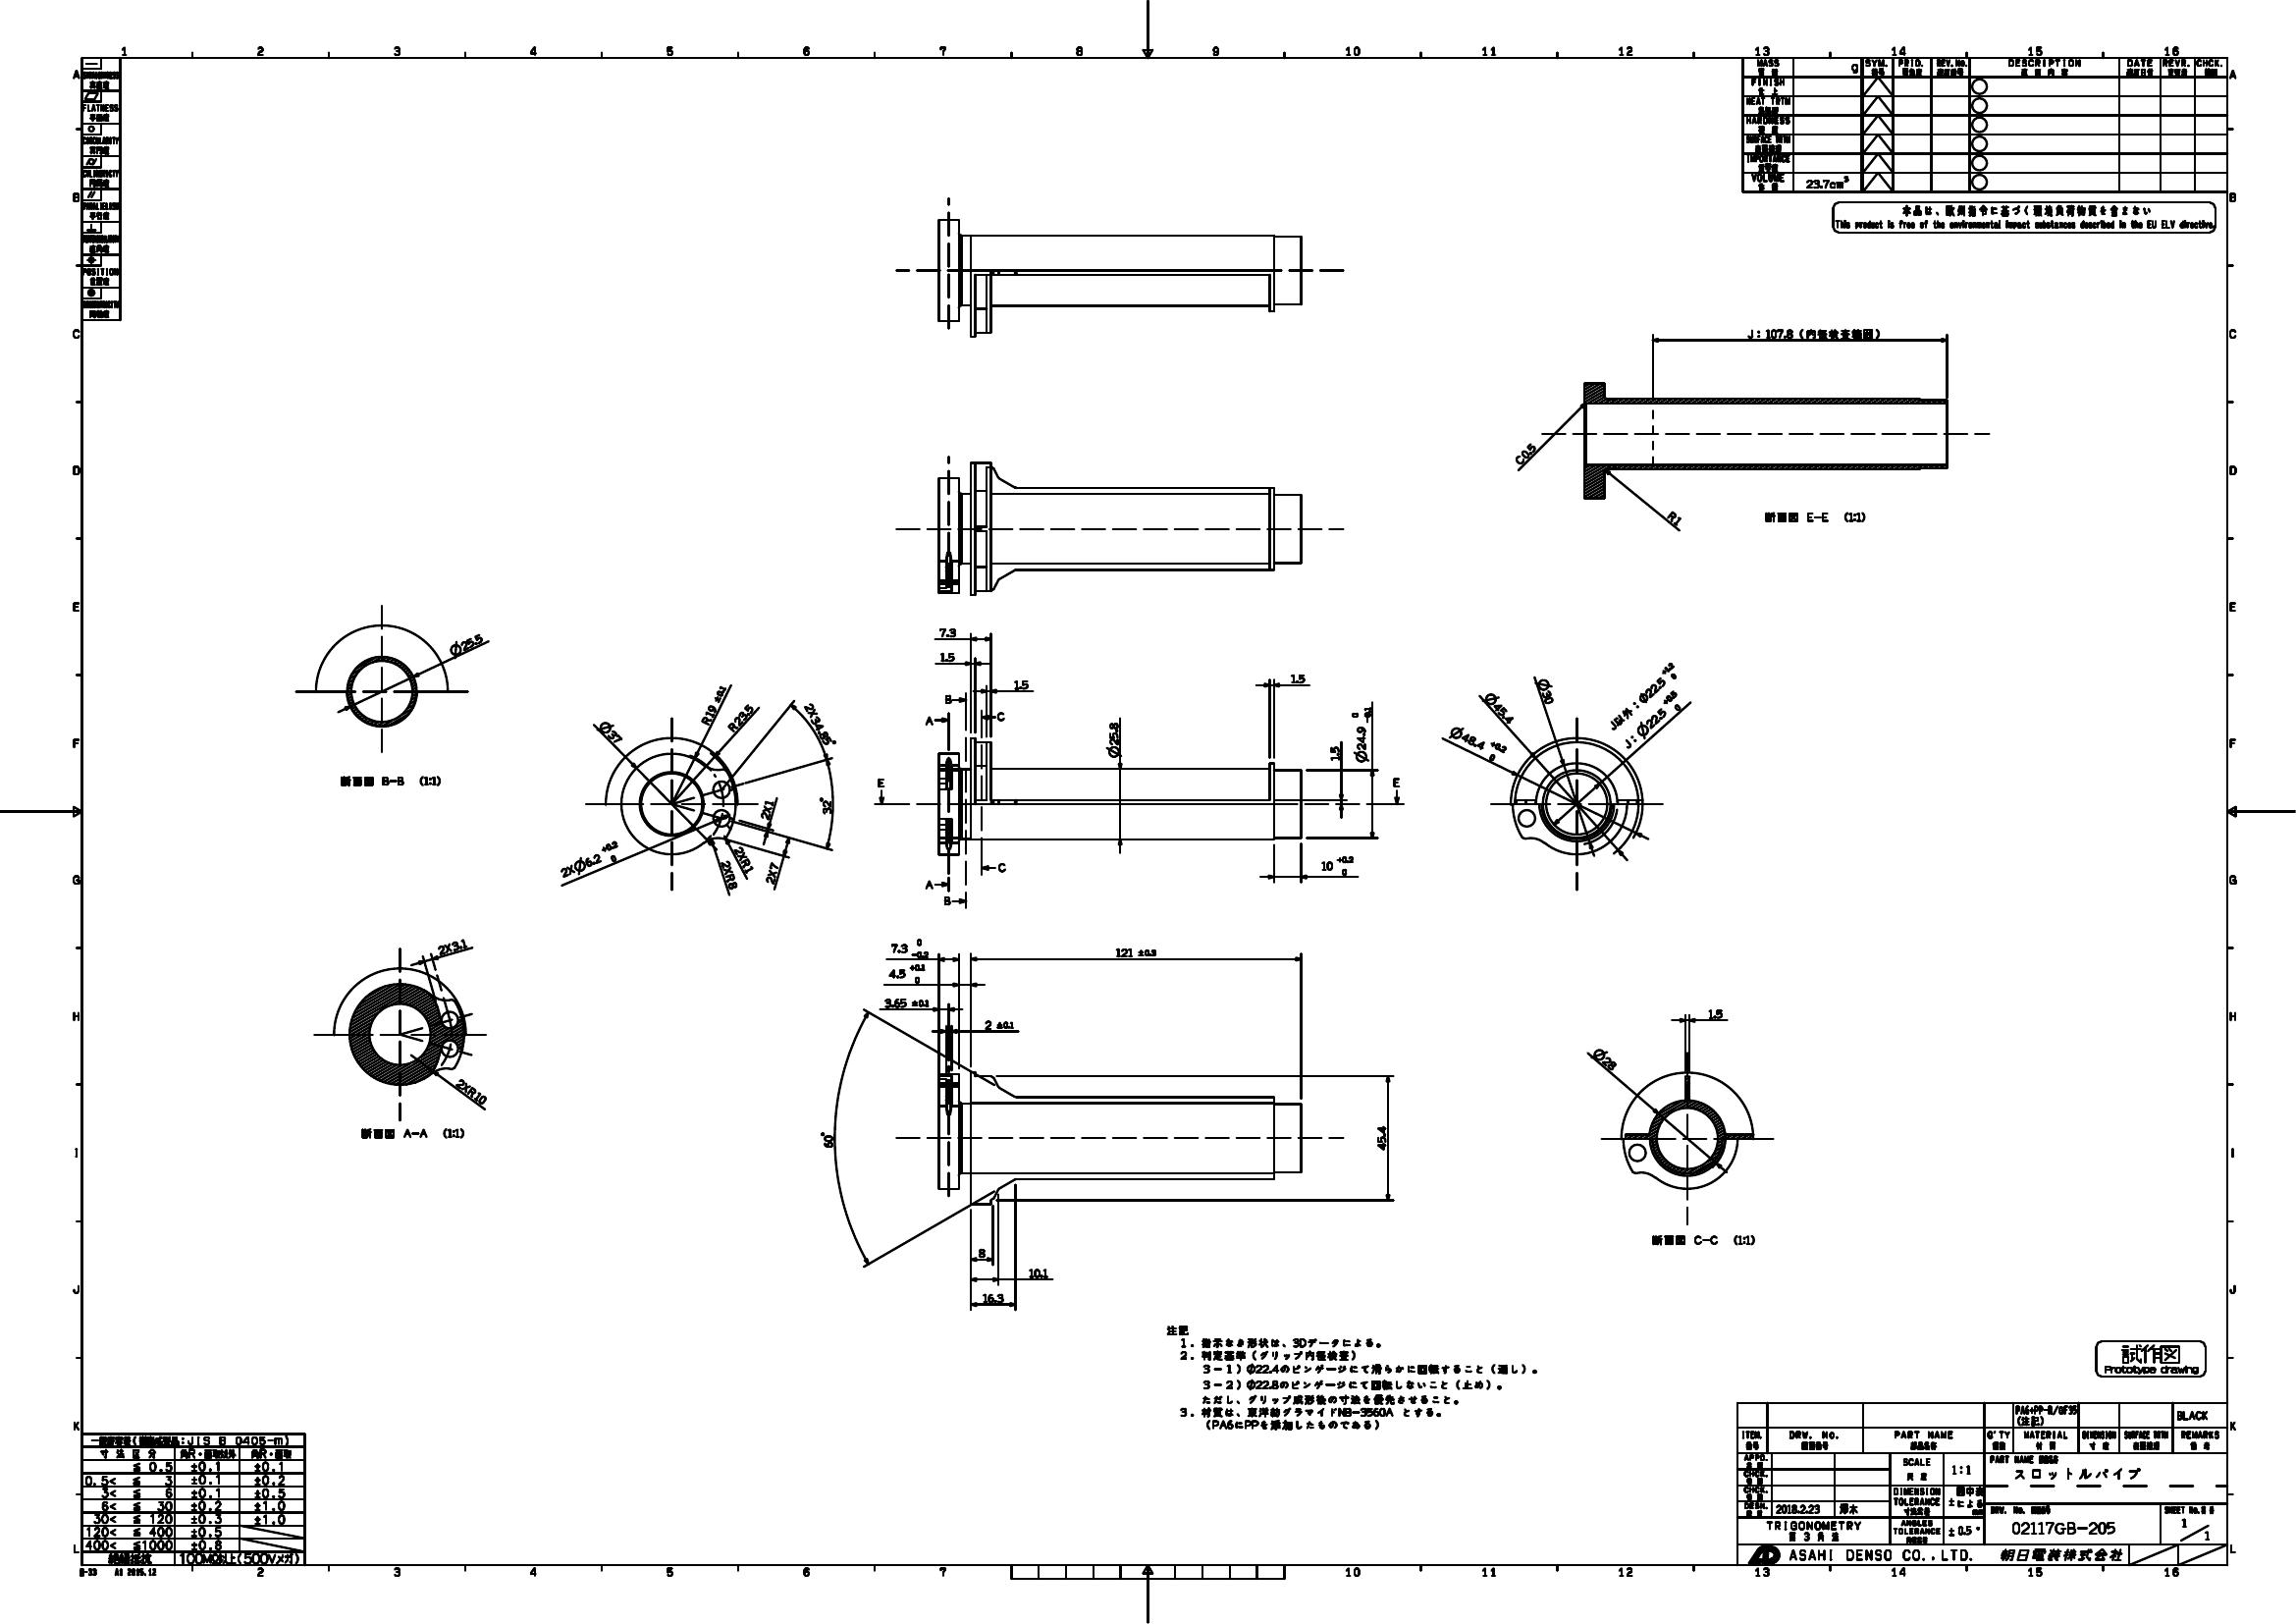anntotation_text: (1163, 1320, 1542, 1436), (1830, 202, 2217, 234), (2094, 1339, 2206, 1378), (360, 1127, 467, 1141), (1762, 510, 1867, 524), (1650, 1234, 1757, 1246), (337, 773, 441, 786), (1797, 329, 1881, 339), (77, 1568, 160, 1577), (1604, 710, 1643, 721), (1621, 735, 1637, 747), (1744, 329, 1762, 339), (875, 775, 887, 789), (994, 708, 1005, 722), (942, 893, 952, 905), (924, 879, 935, 891), (942, 692, 952, 705), (996, 861, 1007, 874), (1391, 775, 1400, 789), (924, 715, 933, 728)
dimension_text: (1448, 731, 1507, 752), (557, 851, 622, 870), (1630, 705, 1688, 726), (1349, 707, 1370, 763), (887, 963, 929, 984), (889, 937, 931, 958), (1632, 675, 1683, 691), (1321, 854, 1354, 875), (706, 682, 720, 726), (813, 700, 826, 749), (1105, 721, 1119, 759), (1481, 701, 1521, 714), (884, 997, 929, 1007), (1114, 947, 1158, 958), (448, 636, 485, 649), (1592, 1051, 1620, 1065), (453, 1086, 490, 1097), (1374, 1125, 1388, 1151), (724, 859, 736, 889), (982, 1018, 1015, 1028), (736, 700, 747, 733), (1541, 677, 1553, 705), (597, 726, 625, 738), (436, 940, 467, 951), (1511, 448, 1539, 459), (817, 1132, 833, 1149), (740, 844, 748, 874), (1026, 1267, 1049, 1278), (982, 1292, 1005, 1302), (1328, 743, 1340, 763), (766, 863, 776, 884), (1665, 510, 1683, 522), (819, 798, 831, 816), (1708, 1007, 1727, 1018), (938, 627, 957, 638), (761, 800, 771, 819), (1289, 673, 1307, 684), (938, 652, 956, 663), (975, 1244, 987, 1258), (1014, 680, 1031, 689)
object: (936, 1004, 1302, 1204), (938, 460, 1302, 596), (936, 736, 1303, 856), (1583, 381, 1948, 499), (938, 220, 1302, 337), (1618, 1070, 1755, 1190), (1509, 736, 1644, 852), (348, 982, 466, 1084), (620, 752, 738, 854), (344, 656, 418, 728)
title_block: (1736, 1403, 2227, 1564), (1741, 56, 2227, 193), (81, 1432, 306, 1564), (81, 58, 121, 322)
